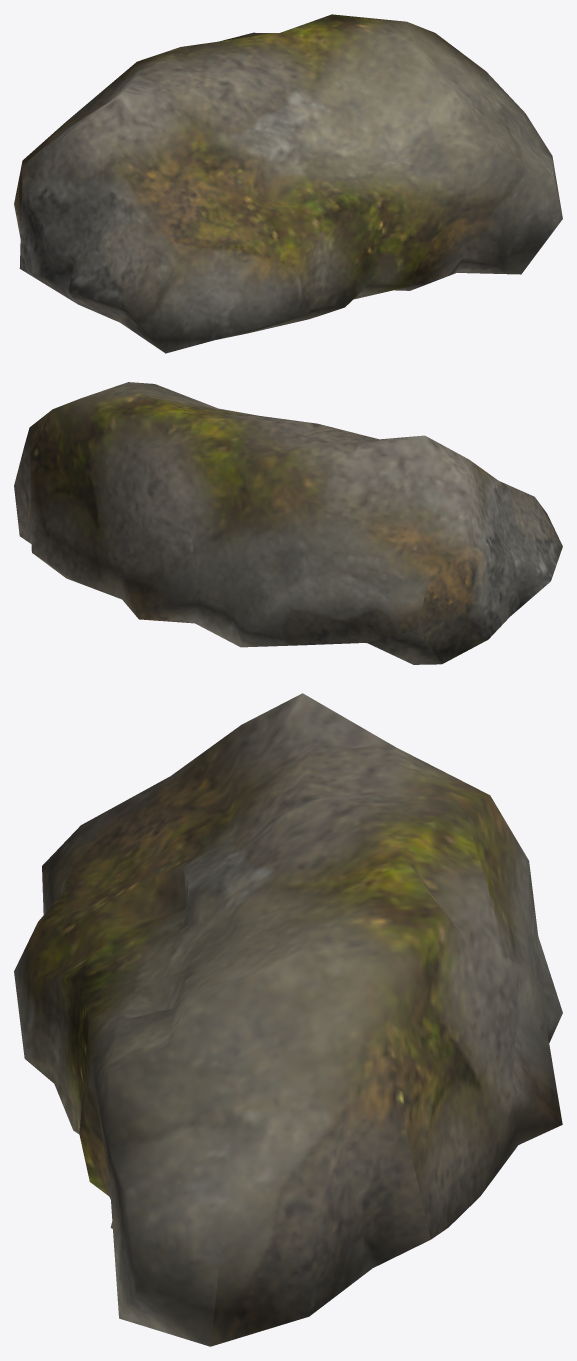
File: rock 2.obj
3 views of the same model, one above another, from view 1: azimuth 30°, elevation 25°; view 2: azimuth 150°, elevation 25°; view 3: azimuth 270°, elevation 25° (orthographic). The views are drawn at different scales.
Visible parts, largest first — view 1: Pavementblock.031; view 2: Pavementblock.031; view 3: Pavementblock.031.
Boxes of the visible parts, x1=… form: Pavementblock.031: x1=14, y1=14, x2=562, y2=353; Pavementblock.031: x1=14, y1=382, x2=562, y2=664; Pavementblock.031: x1=14, y1=693, x2=562, y2=1346.
Size of the model in its own units: 3.43 by 1.47 by 2.05.
